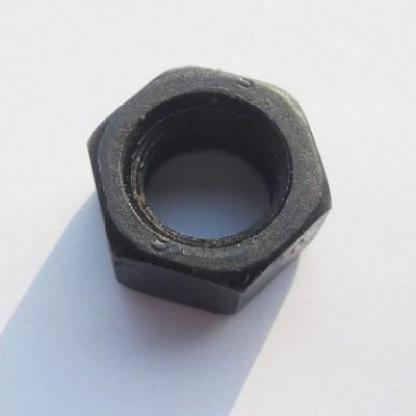FOD: (85, 64, 334, 315)
